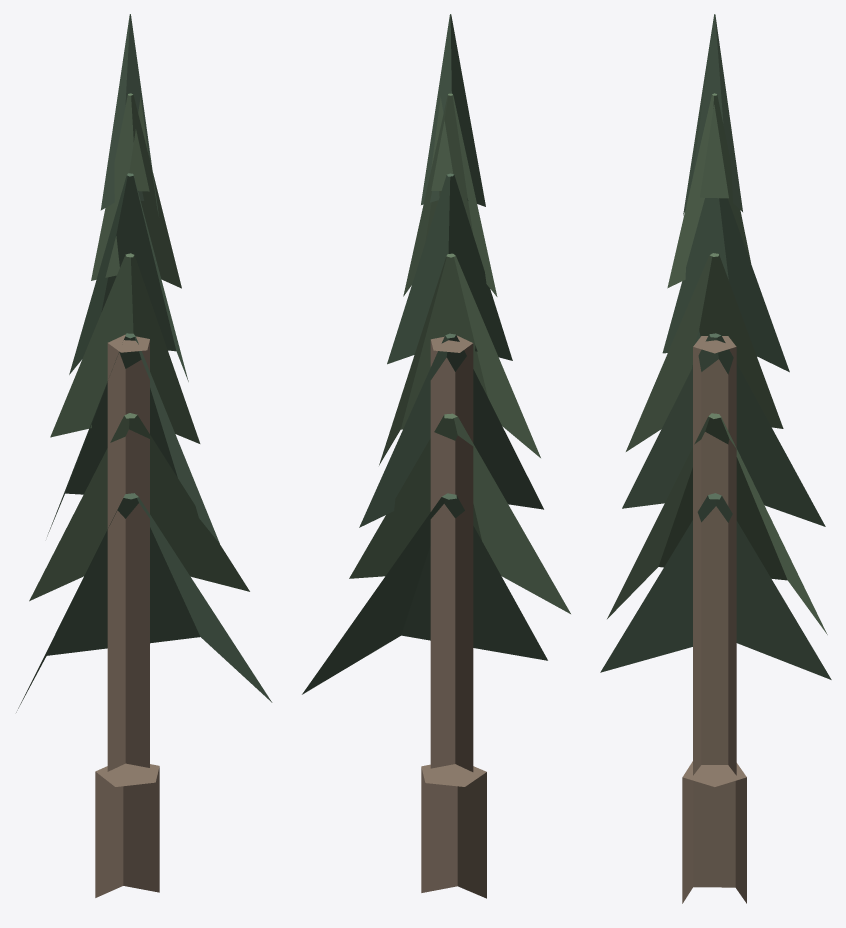
Rendered from tree.cold.spruce__spring.glb.
3 renders of one model, left to right at view 1: azimuth 30°, elevation 25°; view 2: azimuth 150°, elevation 25°; view 3: azimuth 270°, elevation 25°, orthographic.
Visible parts, largest first — view 1: tree.cold.spruce__spring; view 2: tree.cold.spruce__spring; view 3: tree.cold.spruce__spring.
Boxes of the visible parts, box(x1,y1,x2,y2) form: tree.cold.spruce__spring: box(16, 14, 272, 897); tree.cold.spruce__spring: box(302, 14, 570, 898); tree.cold.spruce__spring: box(600, 14, 831, 903).
Size of the model in its own units: 4.4 by 16.76 by 3.98.
